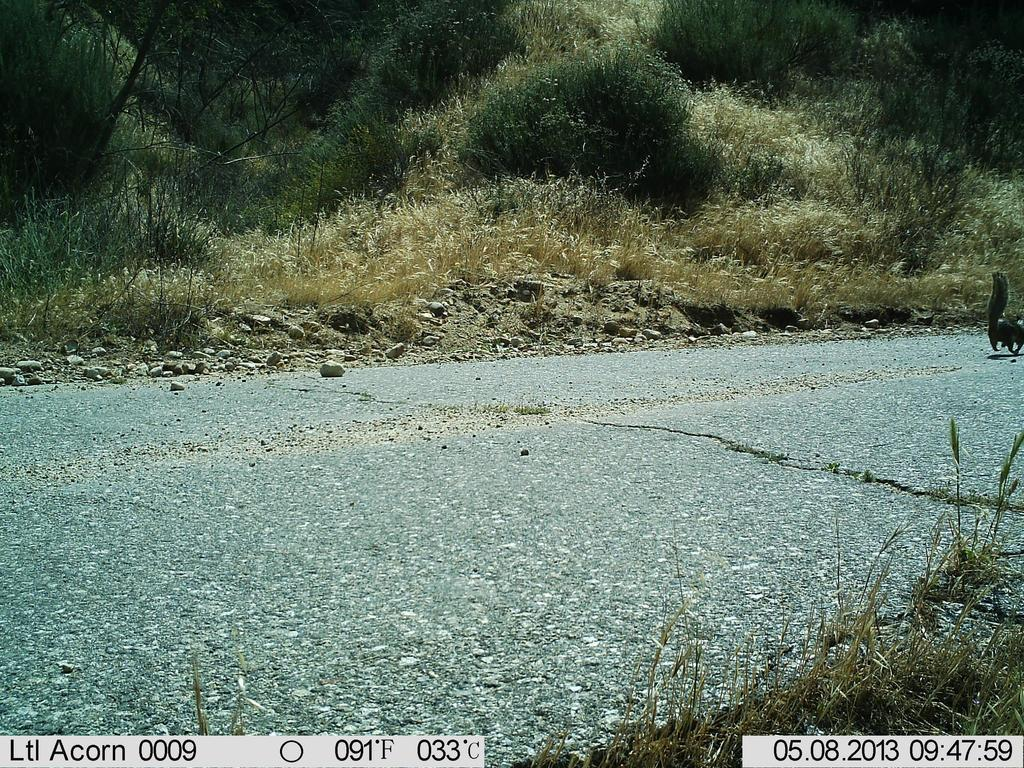squirrel: (967, 254, 1023, 369)
